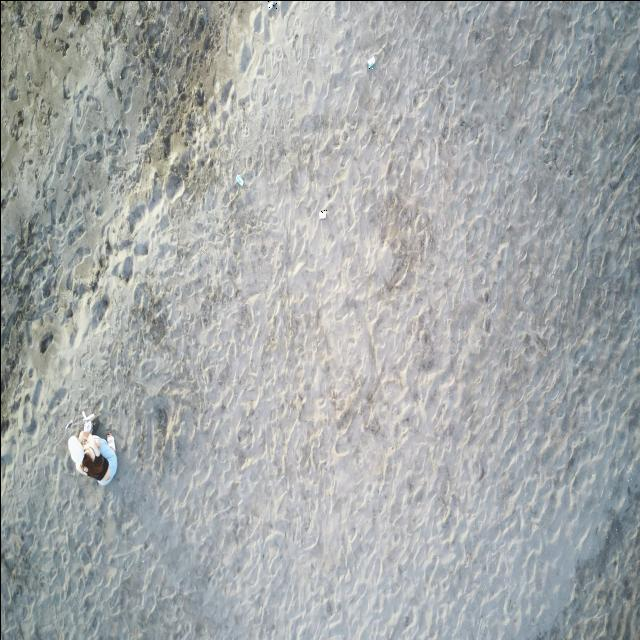Garbage: (64, 412, 96, 432), (367, 55, 375, 68), (267, 0, 276, 9), (236, 175, 243, 186), (320, 209, 327, 219)
